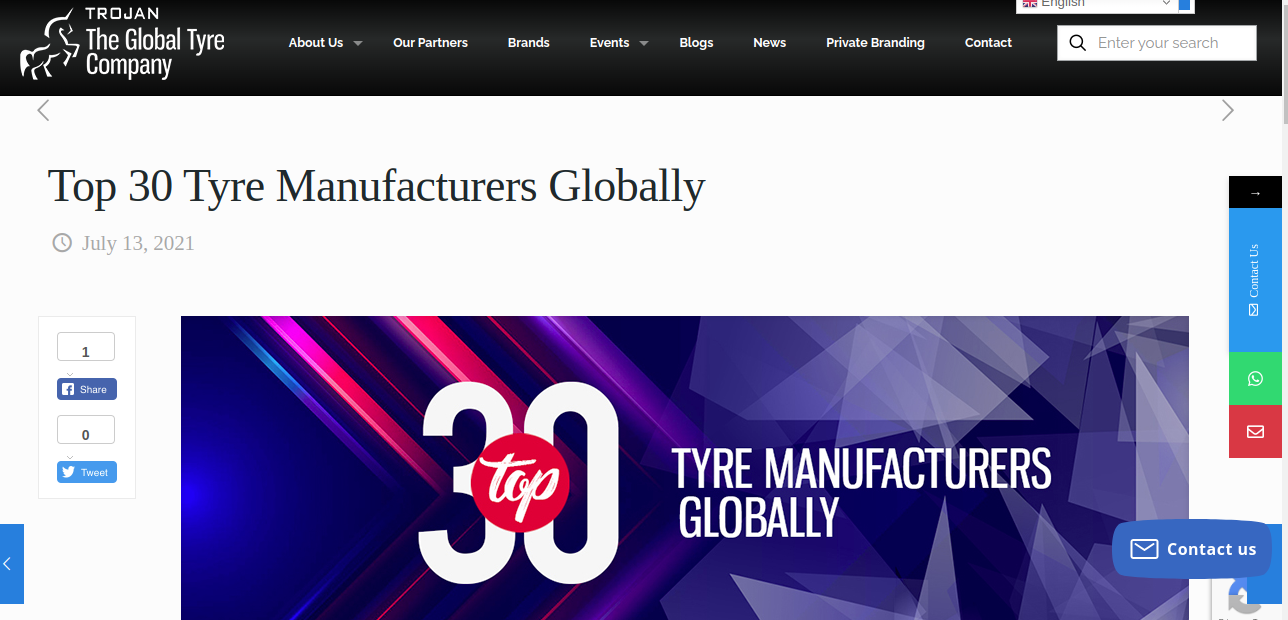menu-bar: (9, 5, 1264, 126)
